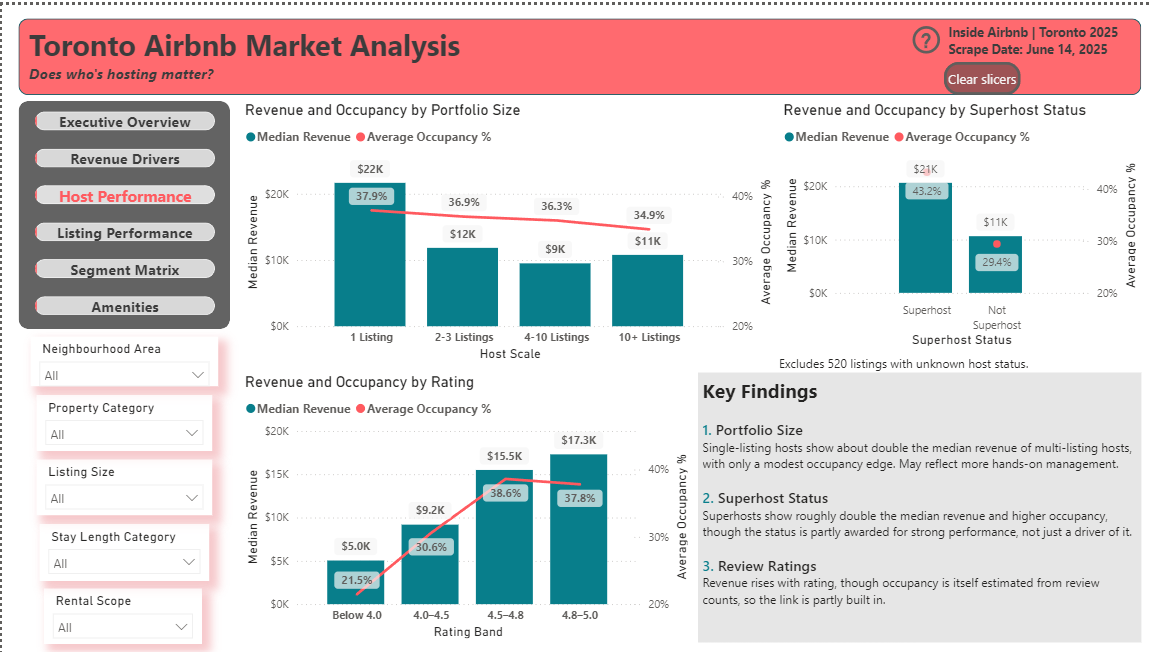

The dashboard page shown, as its layout file describes it:
{"tool":"powerbi","page":{"name":"Host Performance","canvas":[1280,720],"ordinal":2},"visuals":[{"type":"shape","box":[18.3,106.7,235,253.3],"z":0},{"type":"shape","box":[18.2,14.2,1247.6,85.1],"z":1000},{"type":"textbox","box":[10,16.7,531.7,90],"z":2000},{"type":"textbox","box":[1047.5,14.6,218,47.2],"z":3000},{"type":"pageNavigator","box":[36.7,118.3,200,231],"z":4000},{"type":"actionButton","box":[1047.1,62.8,85.1,36.5],"z":5000},{"type":"slicer","fields":{"Values":["dim_neighbourhoods.Neighbourhood Area Hierarchy.Neighbourhood Area","dim_neighbourhoods.Neighbourhood Area Hierarchy.Neighbourhood Name"]},"box":[31.1,368.3,208.3,55],"z":6000},{"type":"slicer","fields":{"Values":["dim_classifications.Property Category"]},"box":[38.3,432.8,195,61.7],"z":7000},{"type":"slicer","fields":{"Values":["dim_classifications.Accommodation Size"]},"box":[37.8,505,195,61.7],"z":8000},{"type":"slicer","fields":{"Values":["dim_classifications.Stay Length Category"]},"box":[41.7,576.1,188.3,63.3],"z":9000},{"type":"slicer","fields":{"Values":["dim_classifications.Rental Scope"]},"box":[46.7,647.8,175,61],"z":10000},{"type":"actionButton","box":[1007.2,17.9,40.7,40.7],"z":11000},{"type":"lineClusteredColumnComboChart","title":"Revenue and Occupancy by Portfolio Size","fields":{"Y":["Measures List.Median Revenue"],"Category":["dim_hosts.Host Scale"],"Y2":["Measures List.Average Occupancy %"]},"box":[264.3,107.2,595,292.9],"z":12000},{"type":"lineClusteredColumnComboChart","title":"Revenue and Occupancy by Rating","fields":{"Y":["Measures List.Median Revenue"],"Y2":["Measures List.Average Occupancy %"],"Category":["fact_listings.Rating Band"]},"box":[264.3,409,501.9,300.1],"z":13000},{"type":"lineClusteredColumnComboChart","title":"Revenue and Occupancy by Superhost Status","fields":{"Category":["dim_hosts.Superhost Status"],"Y":["Measures List.Median Revenue"],"Y2":["Measures List.Average Occupancy %"]},"box":[862.7,107.2,401.9,276.8],"z":14000},{"type":"textbox","title":"Key Findings 2","box":[773.4,409,493,300.1],"z":15000},{"type":"textbox","box":[859.1,384,405.4,30.4],"z":16000}]}

Visuals, with their boxes in screenshot pixels (x1, y1, x2, y2), scaled from the page's 1280x720 canvas onto the 1153x652 screenshot:
shape: select_region(16, 97, 228, 326)
shape: select_region(16, 13, 1140, 90)
textbox: select_region(9, 15, 488, 97)
textbox: select_region(944, 13, 1140, 56)
pageNavigator: select_region(33, 107, 213, 316)
actionButton: select_region(943, 57, 1020, 90)
slicer - dim_neighbourhoods.Neighbourhood Area Hierarchy.Neighbourhood Area x dim_neighbourhoods.Neighbourhood Area Hierarchy.Neighbourhood Name: select_region(28, 334, 216, 383)
slicer - dim_classifications.Property Category: select_region(34, 392, 210, 448)
slicer - dim_classifications.Accommodation Size: select_region(34, 457, 210, 513)
slicer - dim_classifications.Stay Length Category: select_region(38, 522, 207, 579)
slicer - dim_classifications.Rental Scope: select_region(42, 587, 200, 642)
actionButton: select_region(907, 16, 944, 53)
"Revenue and Occupancy by Portfolio Size" lineClusteredColumnComboChart: select_region(238, 97, 774, 362)
"Revenue and Occupancy by Rating" lineClusteredColumnComboChart: select_region(238, 370, 690, 642)
"Revenue and Occupancy by Superhost Status" lineClusteredColumnComboChart: select_region(777, 97, 1139, 348)
"Key Findings 2" textbox: select_region(697, 370, 1141, 642)
textbox: select_region(774, 348, 1139, 375)
